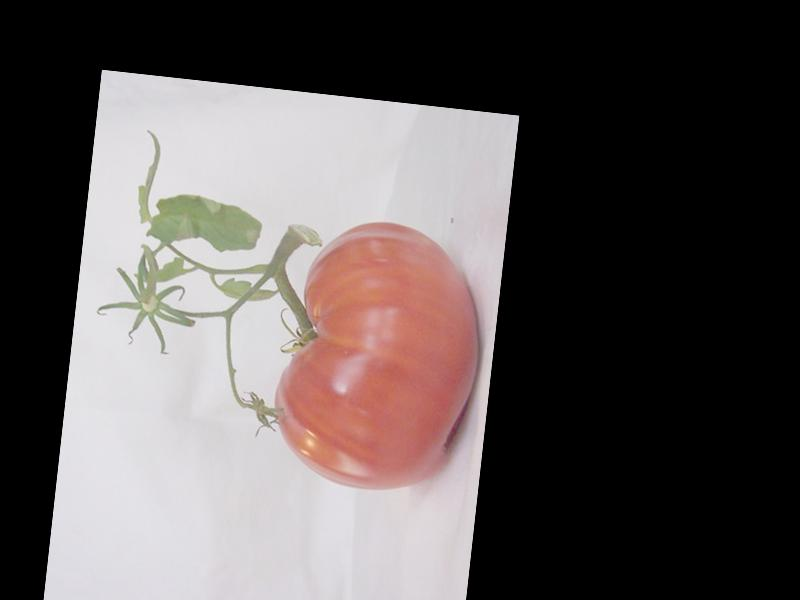Tomato: (266, 210, 493, 500)
